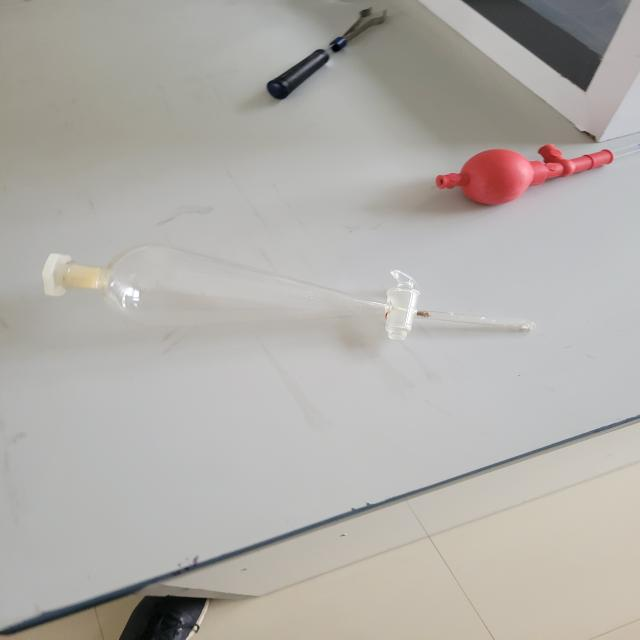Separating_Funnel: (16, 218, 540, 366)
